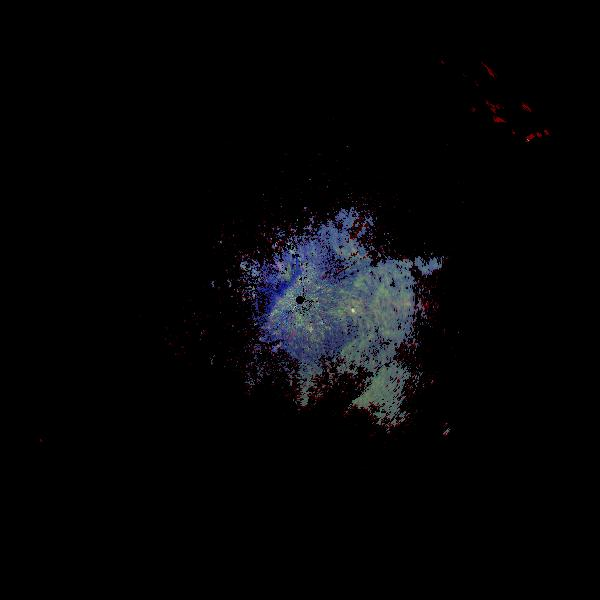roost: (349, 306, 358, 315)
